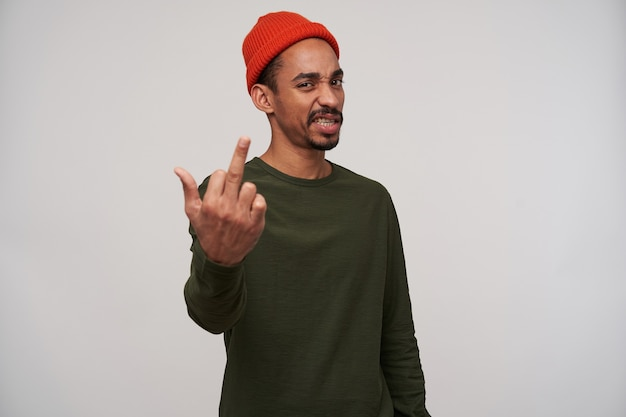insulting_gesture: (171, 134, 269, 269)
